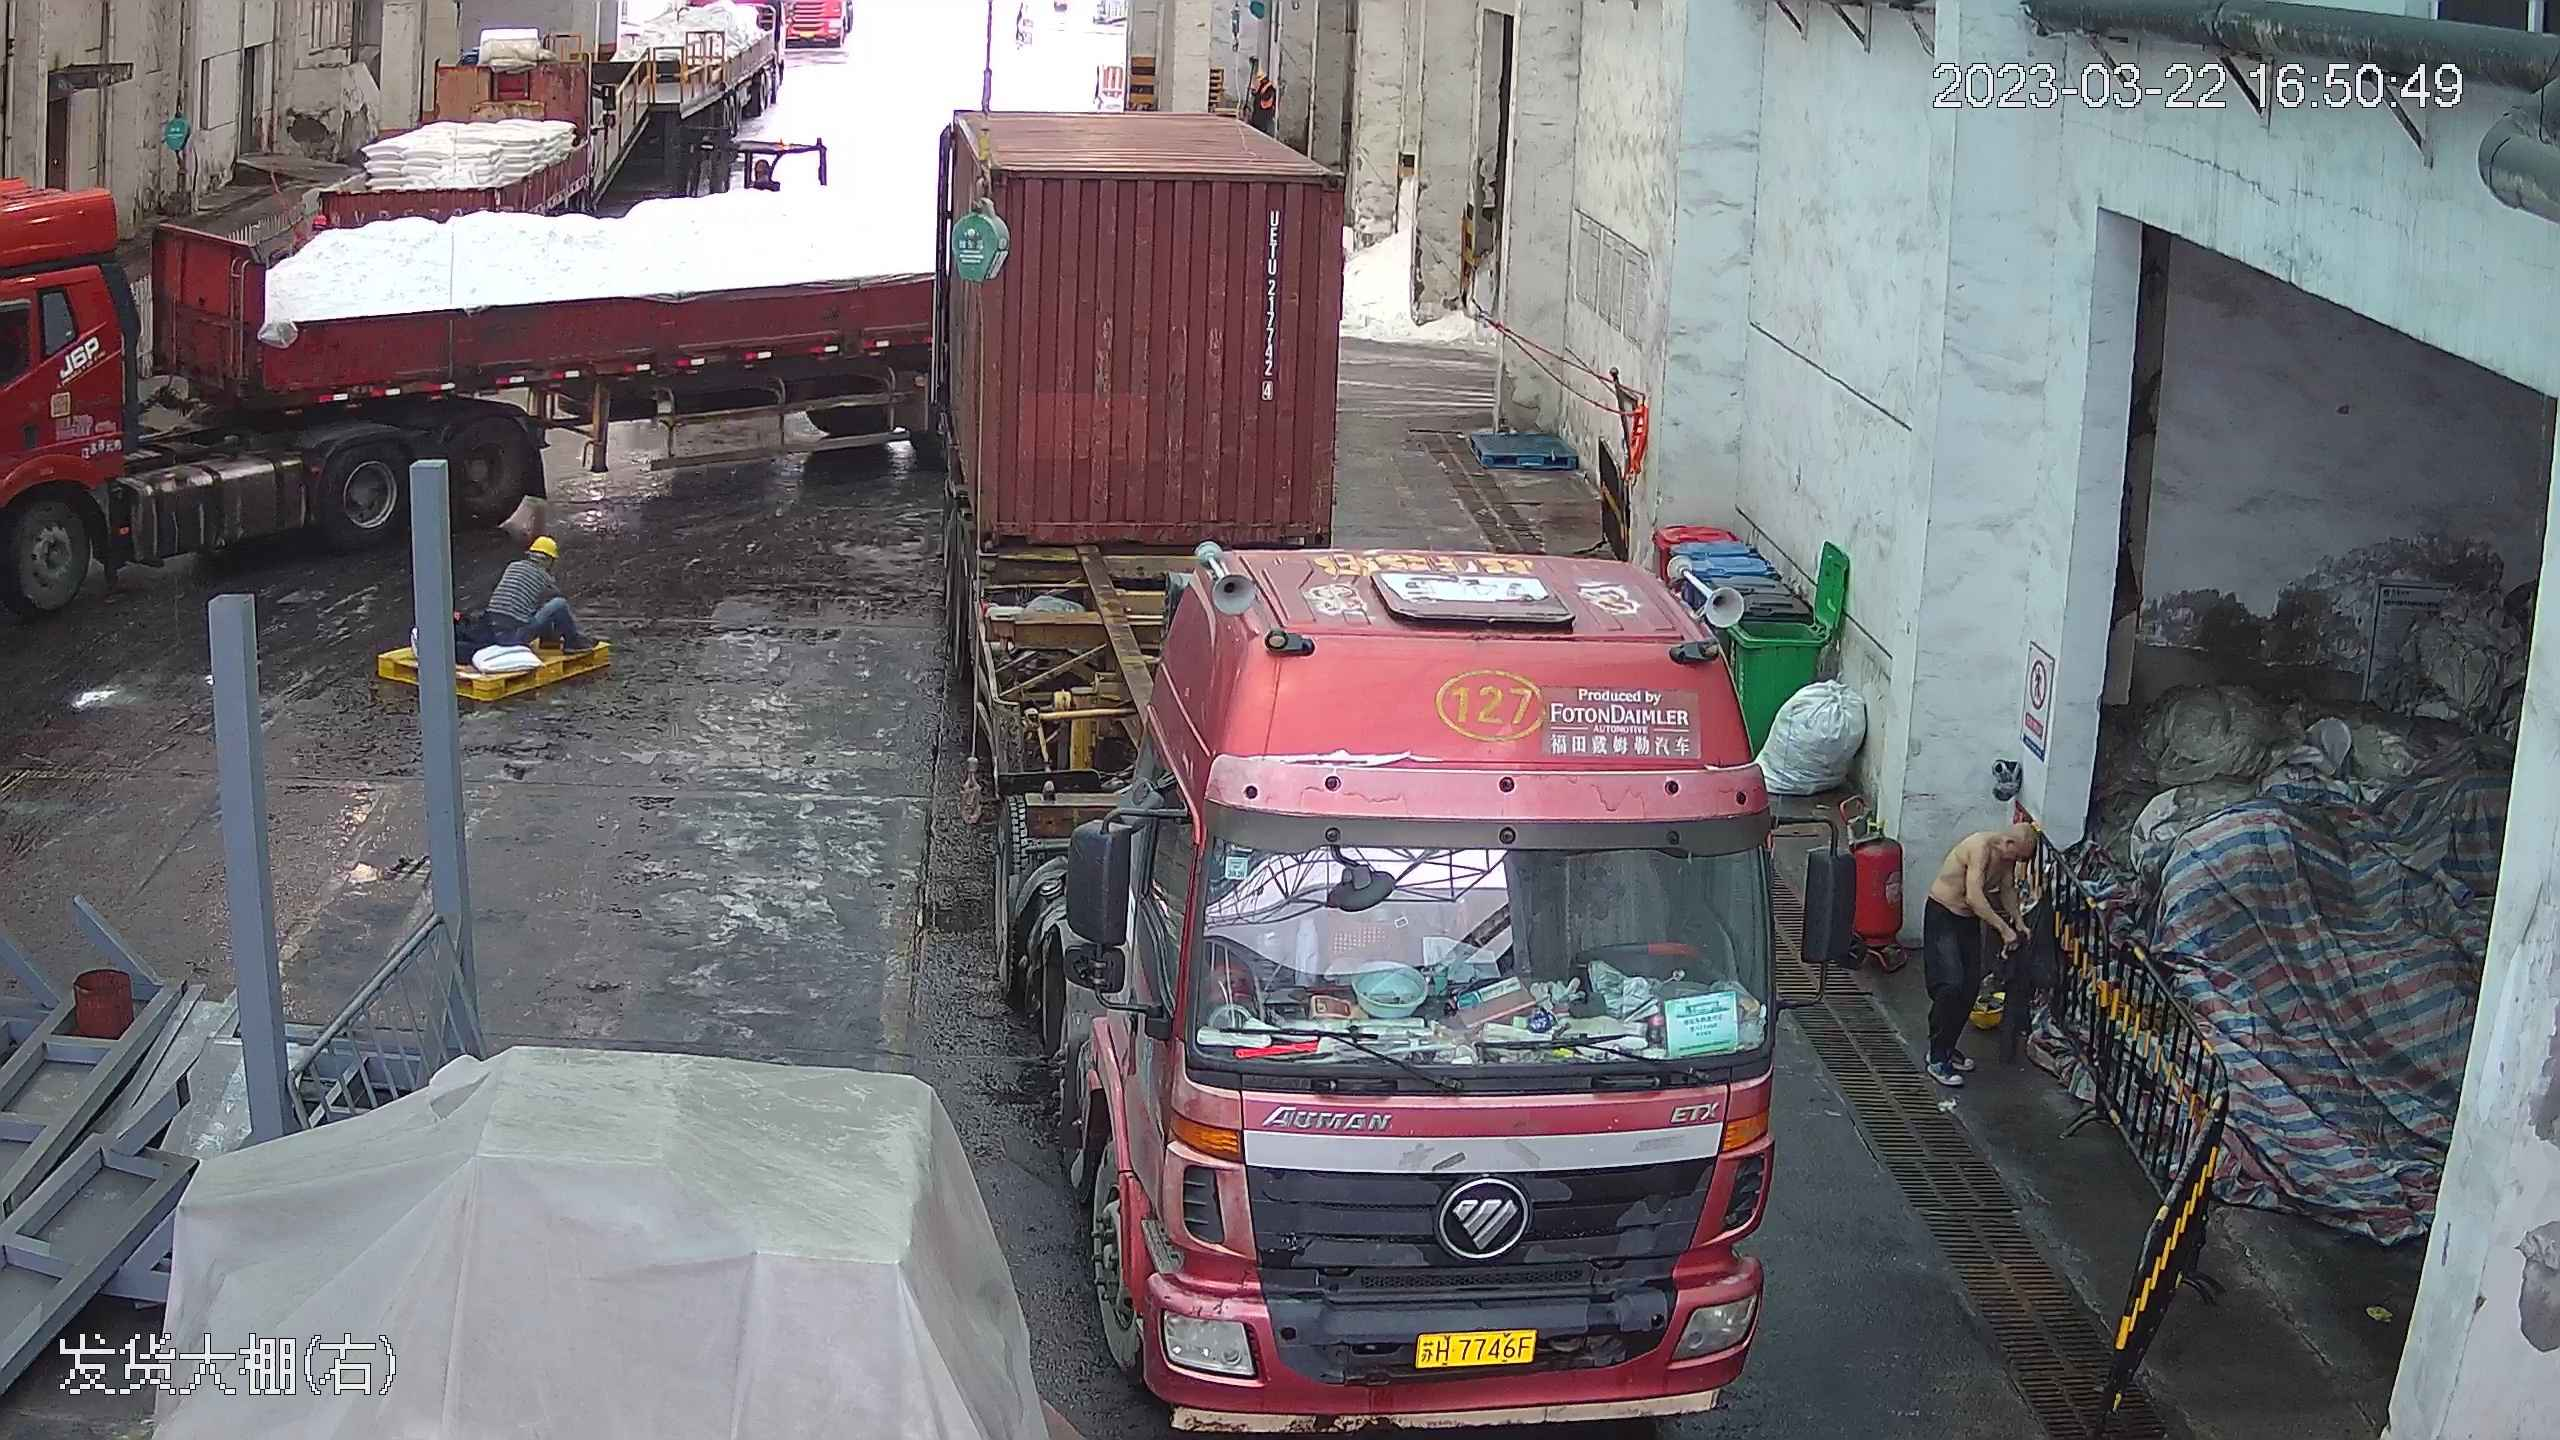head: (1955, 802, 2056, 892), (512, 532, 569, 600), (1252, 69, 1275, 101)
helmet: (528, 532, 561, 557), (1256, 71, 1268, 82)
people: (1926, 810, 2065, 1079), (484, 533, 594, 656), (1245, 67, 1282, 143)
truck: (926, 115, 1816, 1425), (1, 163, 172, 623)
